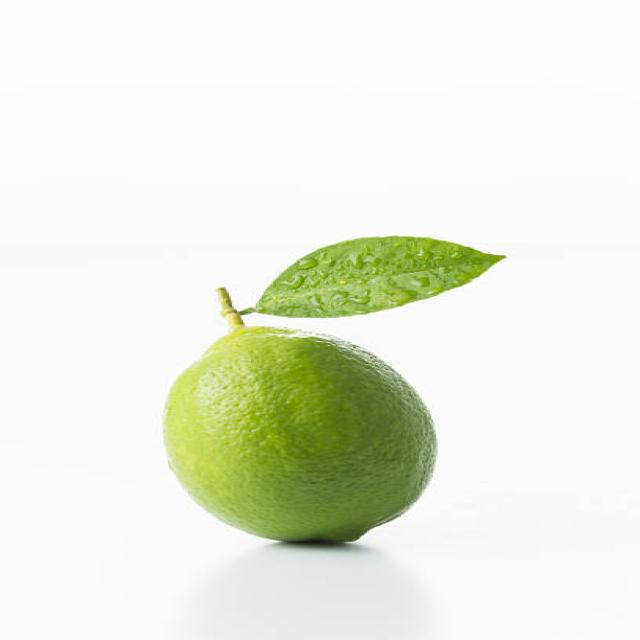Lemon: (159, 319, 442, 549)
